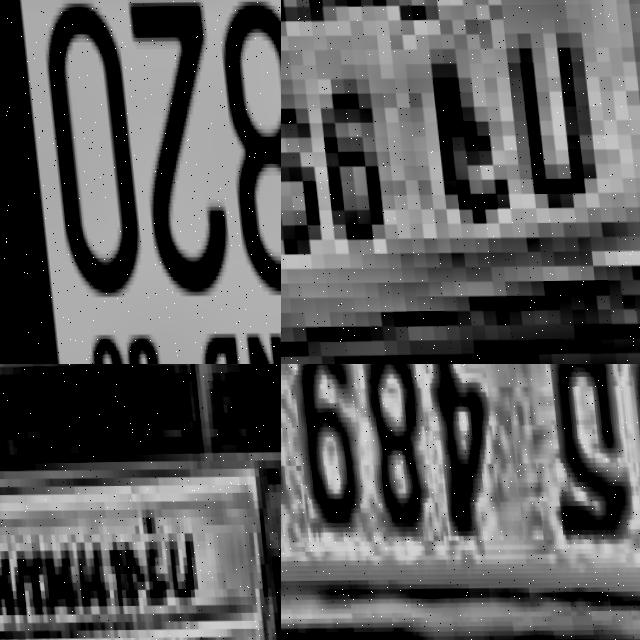license-plate: (281, 0, 640, 364), (0, 0, 281, 364), (281, 364, 640, 622), (0, 425, 281, 640)
